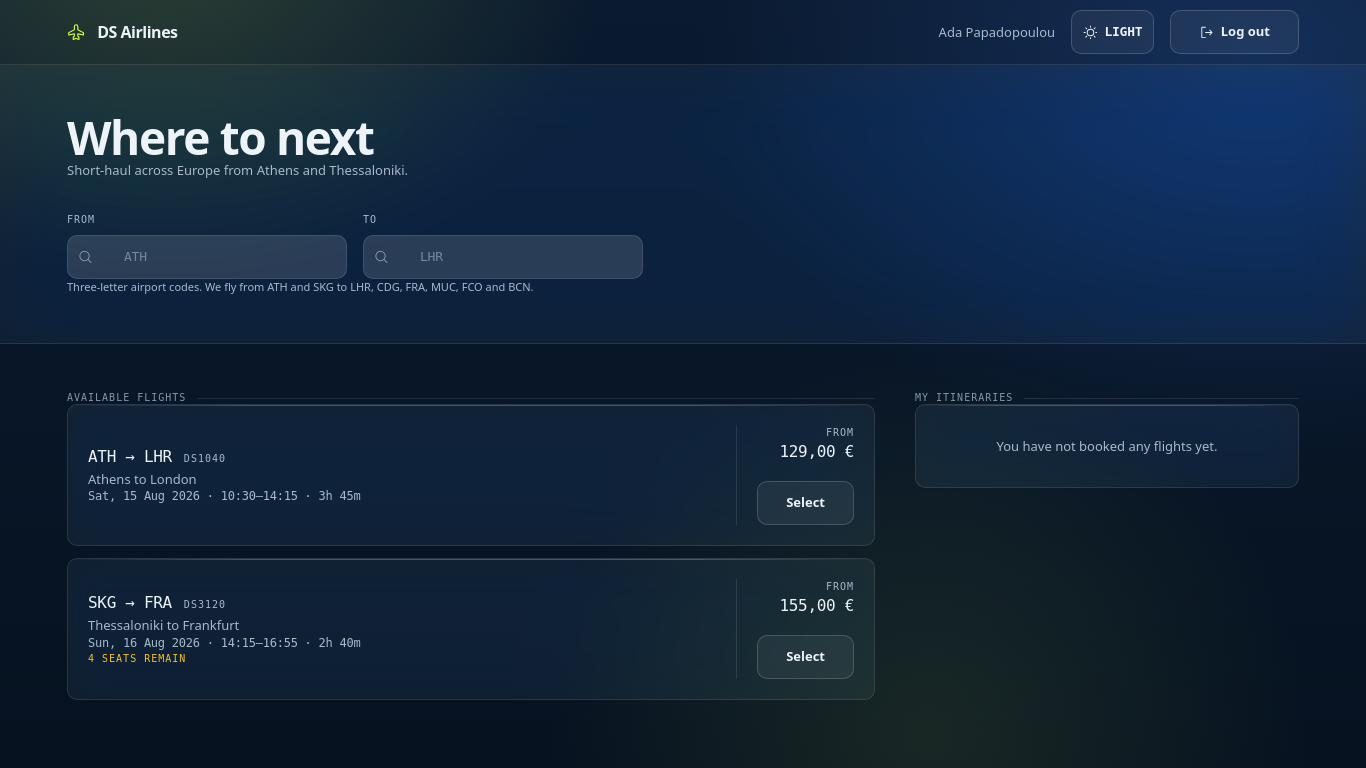
Test: Dashboard › booking › books the selected flight and reports the reference
Expected: the heading "Where to next" is shown, 67,106 -> 374,168
Click the button "Select" below "129,00 €" at (806, 503), box 757,481 -> 854,525
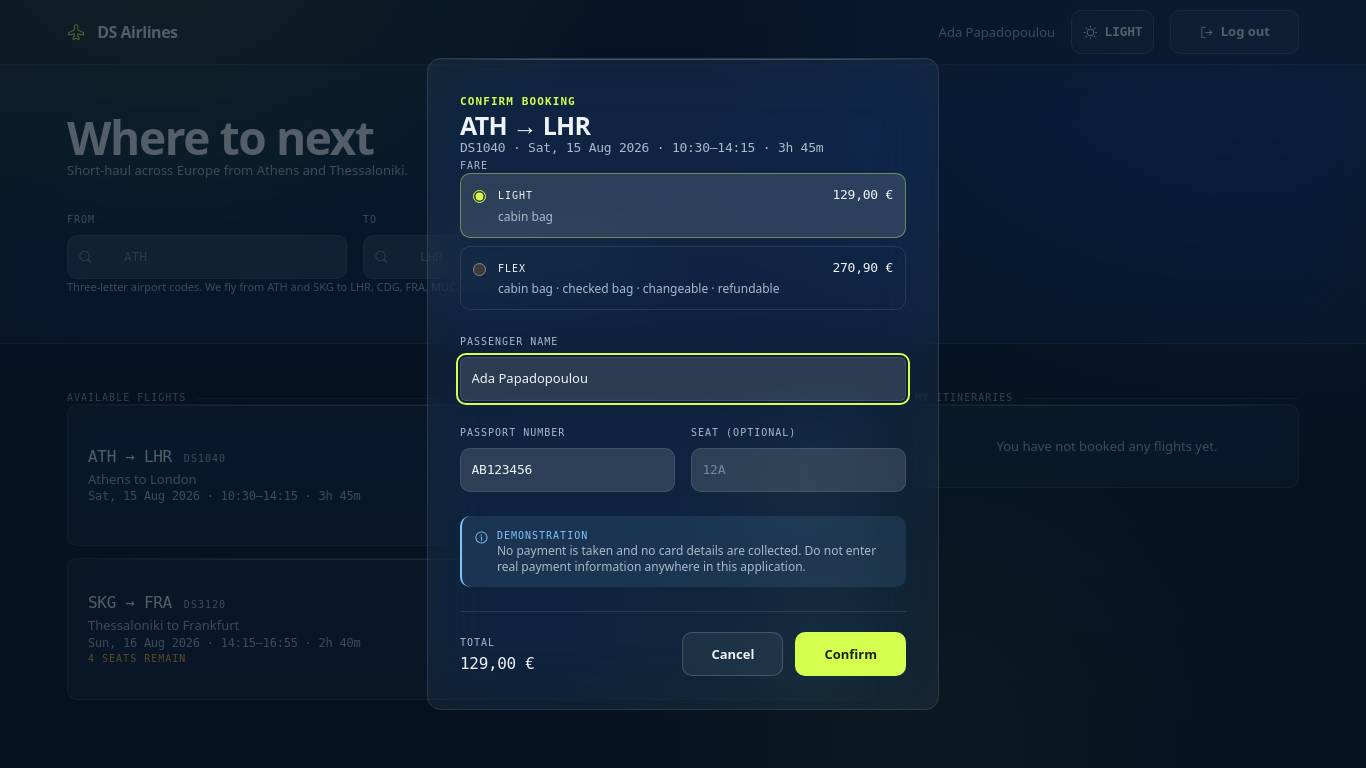
Click the button "Confirm" at (851, 654), box 796,632 -> 906,676
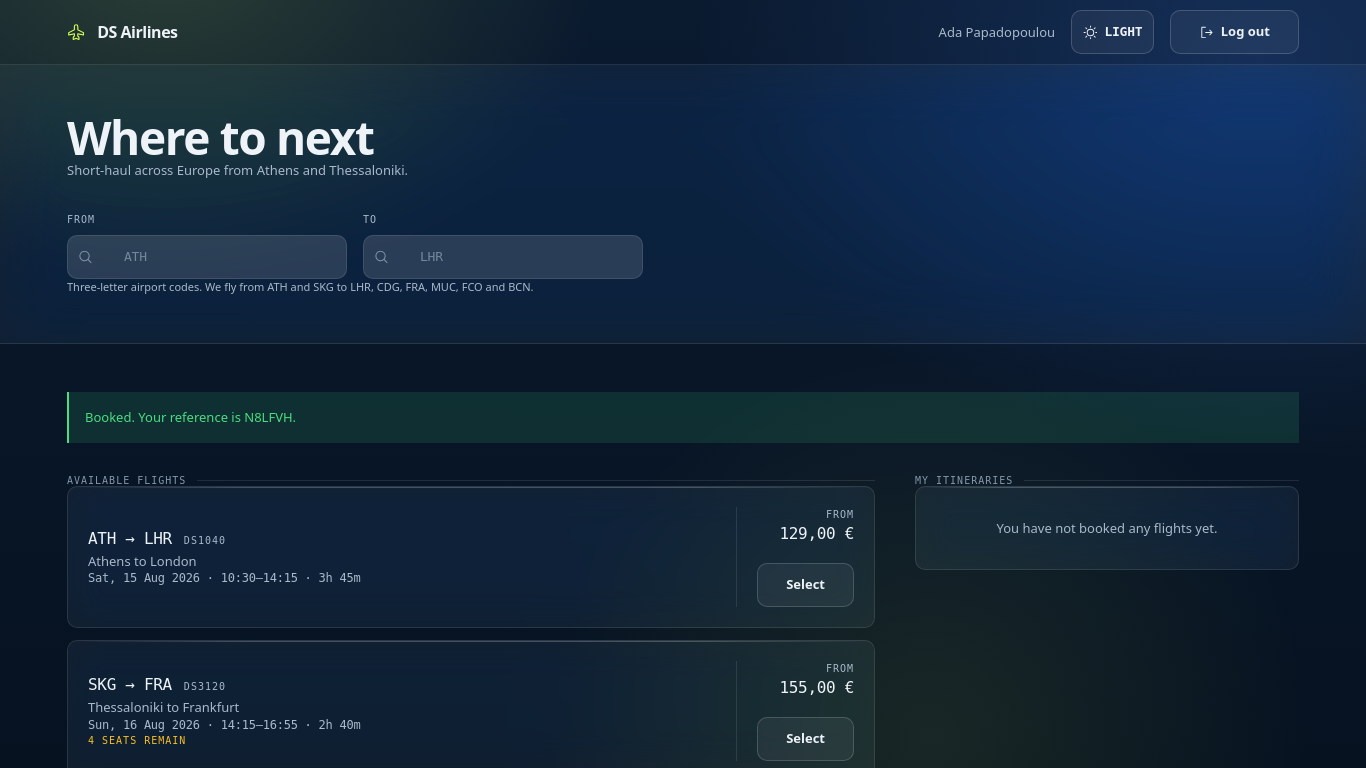
Expected: the message shows "N8LFVH", 85,408 -> 296,426
